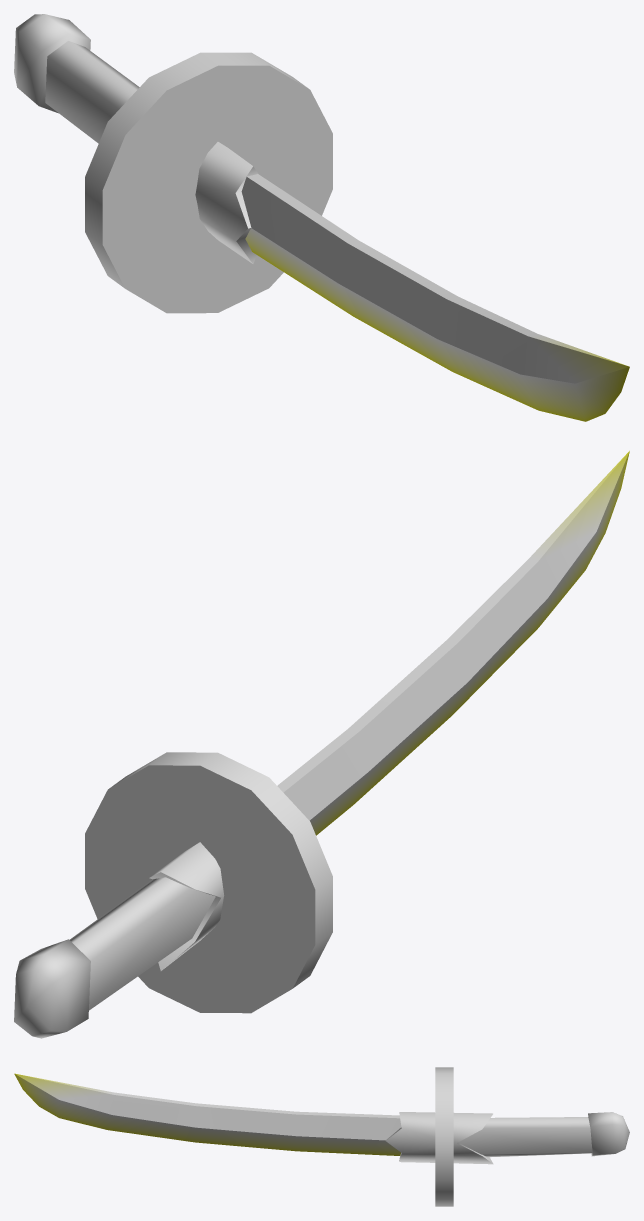
The picture shows the model from 3 angles, top to bottom: view 1: azimuth 30°, elevation 25°; view 2: azimuth 150°, elevation 25°; view 3: azimuth 270°, elevation 25°; orthographic projection. The views are drawn at different scales.
Parts seen in each view (by area): view 1: mKatana; view 2: mKatana; view 3: mKatana.
Boxes of the visible parts, left/top/right/bottom form: mKatana: left=14, top=14, right=629, bottom=421; mKatana: left=14, top=451, right=629, bottom=1038; mKatana: left=14, top=1067, right=629, bottom=1206.
Size of the model in its own units: 0.1975 by 0.2031 by 0.8947.
